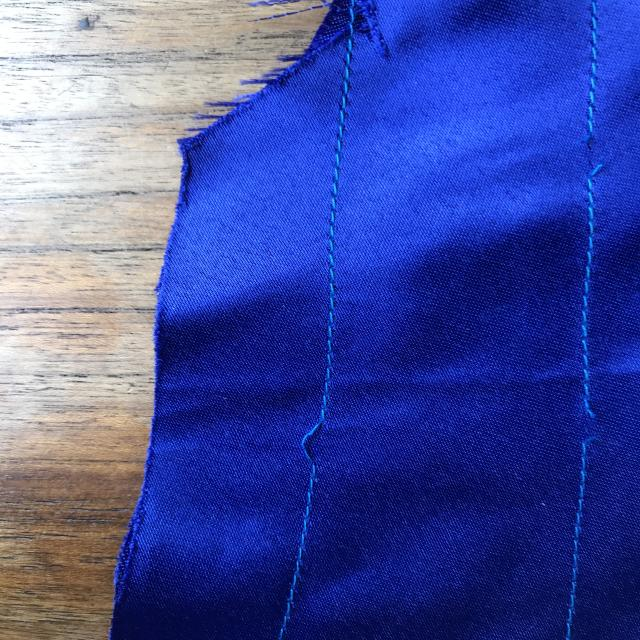broken: (557, 106, 612, 187), (568, 382, 618, 464)
good: (311, 172, 350, 286)
skip: (278, 386, 344, 484)
